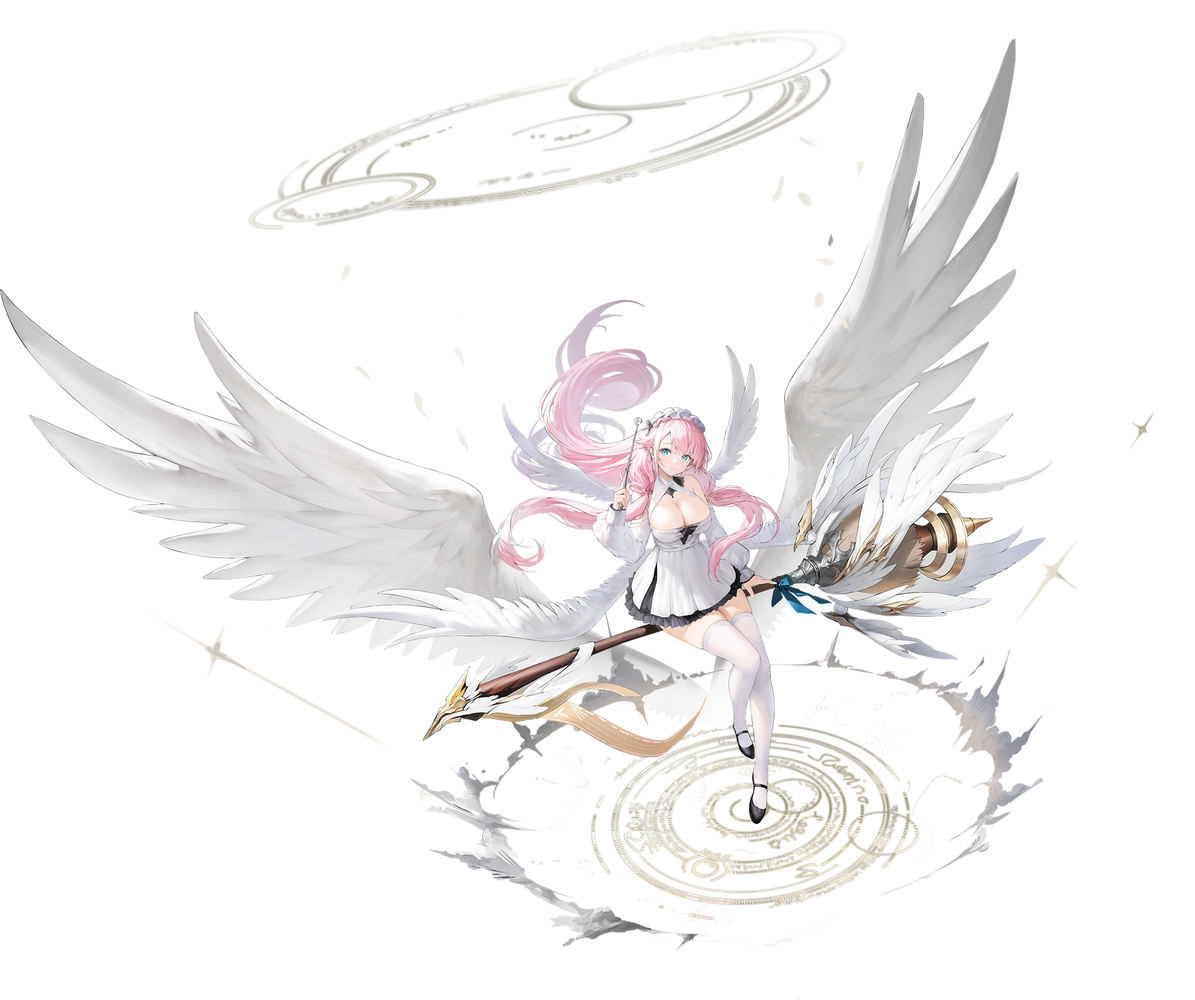person: (499, 376, 866, 841)
